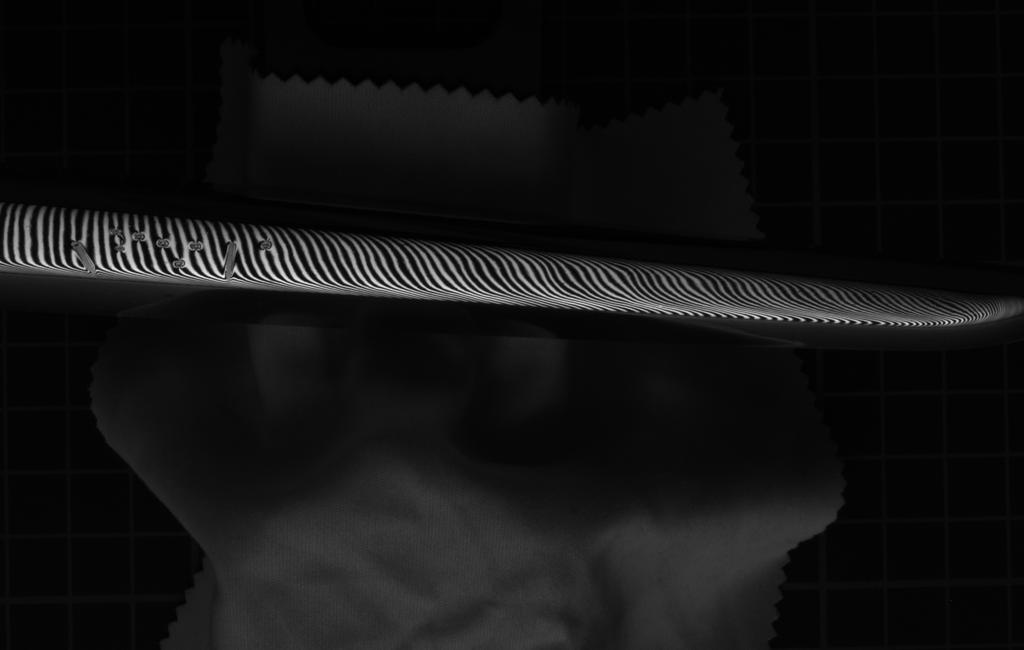Pierced: (152, 233, 178, 254), (126, 226, 153, 244), (184, 236, 209, 254), (255, 237, 277, 254), (173, 255, 190, 272)
Scratch: (64, 234, 102, 277), (216, 230, 246, 283), (106, 217, 129, 259)
